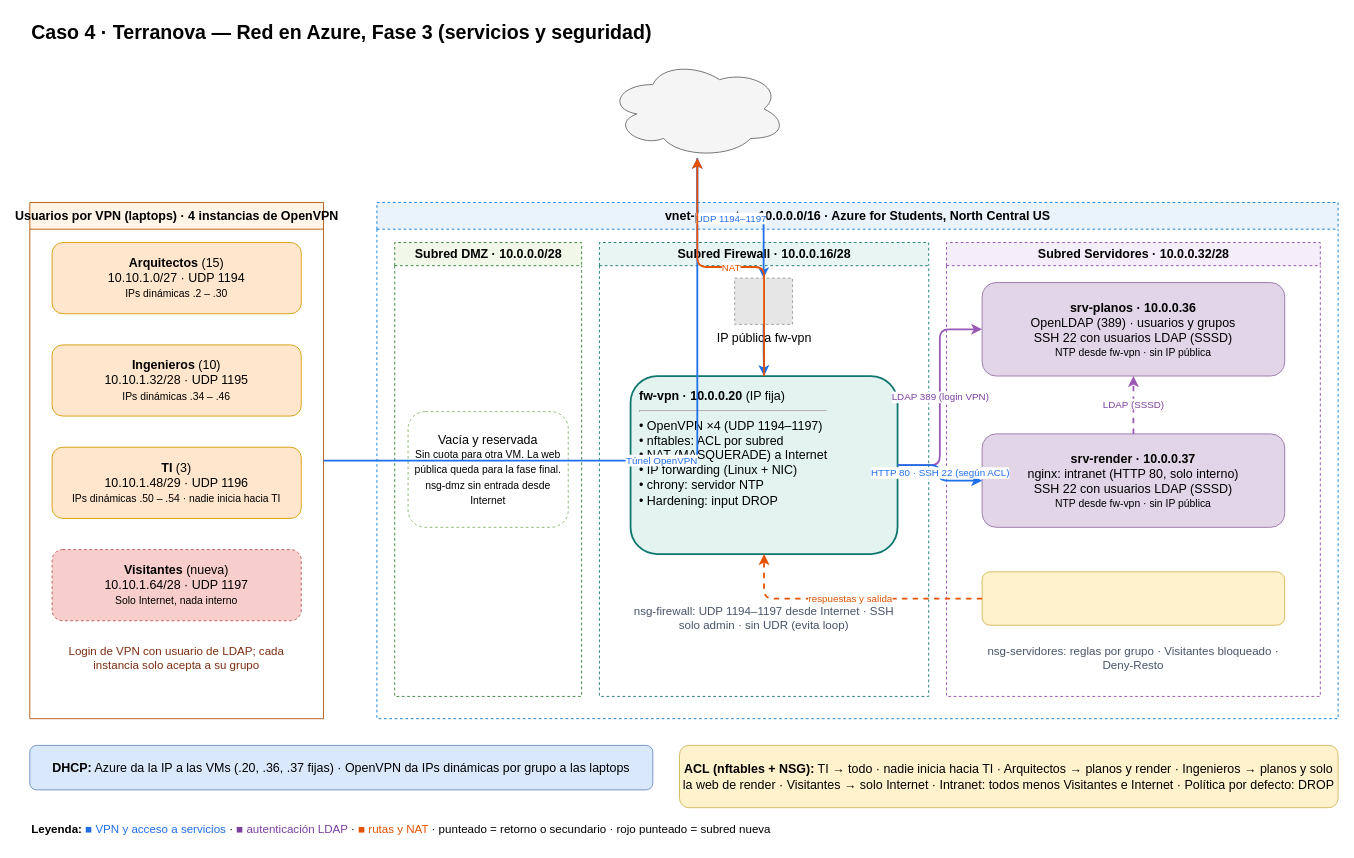
The diagram is 1354 pixels wide and 858 high, and some of its shapes have lost their labels. Grey dashed boxes stand in for pictures. The shapes that lost their labels are listed below. From the top down, each one's centre as x and y in pixels, then its label:
At [696,108]: "Internet".
At [1133,598]: "rt-servidores (UDR) 0.0.0.0/0 y 10.10.0.0/16 → 10.0.0.20".
